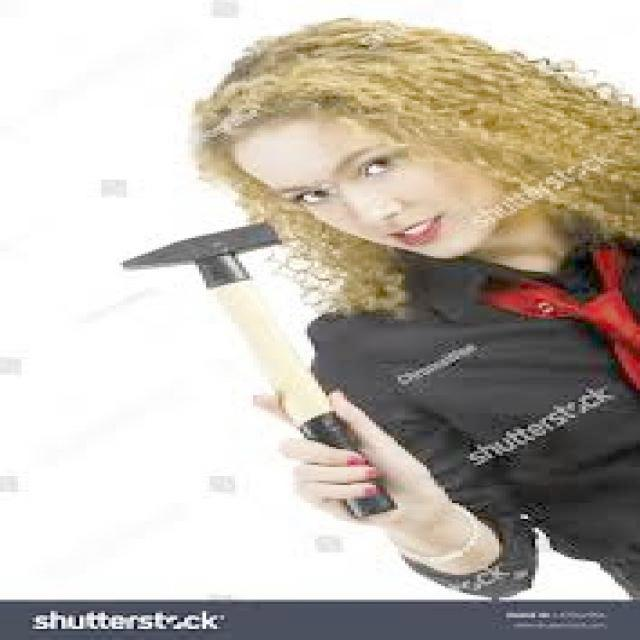hammer: (88, 216, 406, 526)
